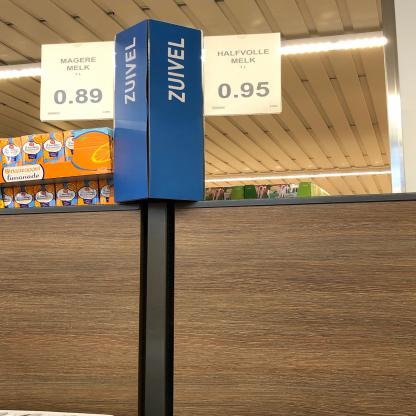prtg: (205, 34, 282, 117), (41, 43, 116, 122)
